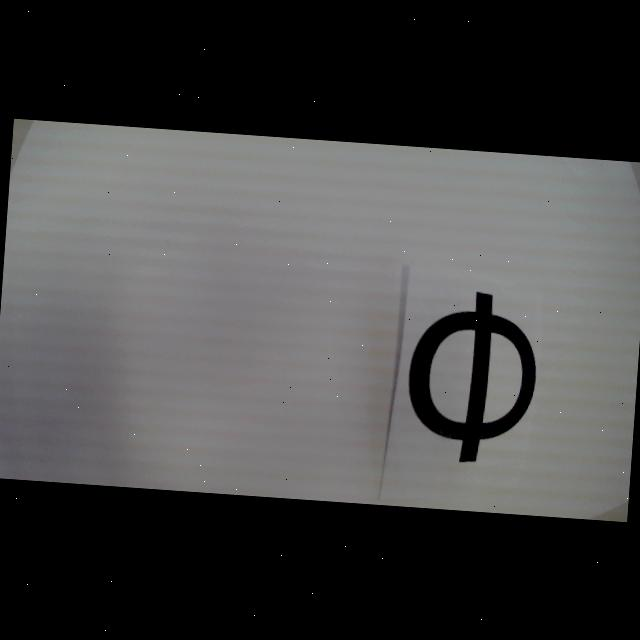PHI: (402, 286, 542, 468)
